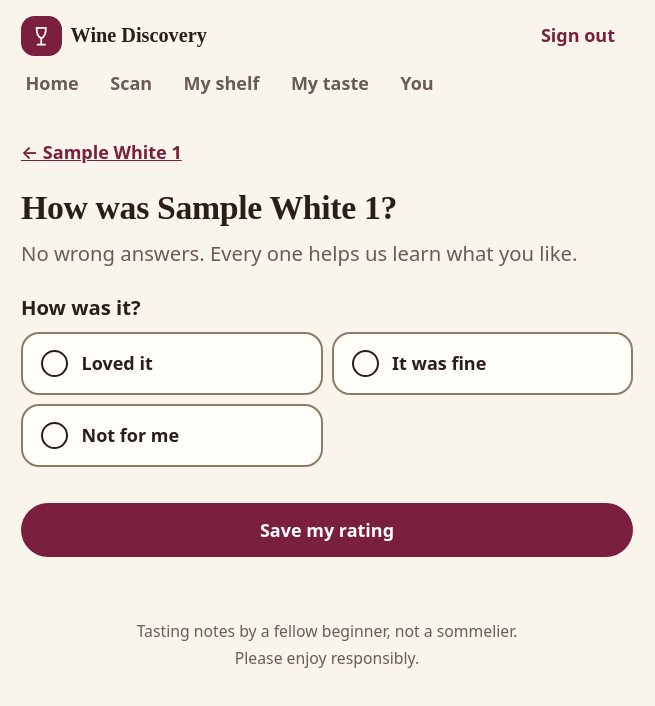
Rate screen › asks for a choice before saving, kindly
This screenshot has width=655, height=706.
Click the button "Save my rating": x=327, y=530 21,503 -> 633,557
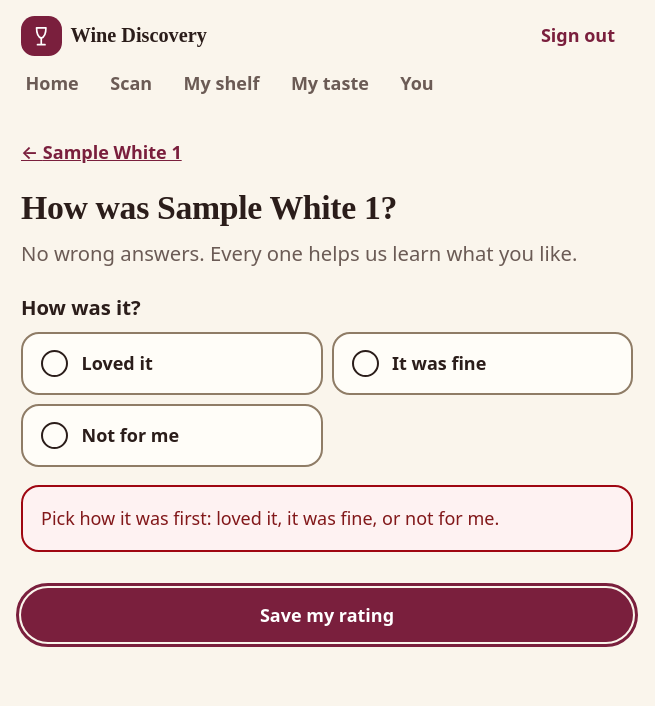
Result: the message shows "Pick how it was first" at 41,506 -> 499,530
